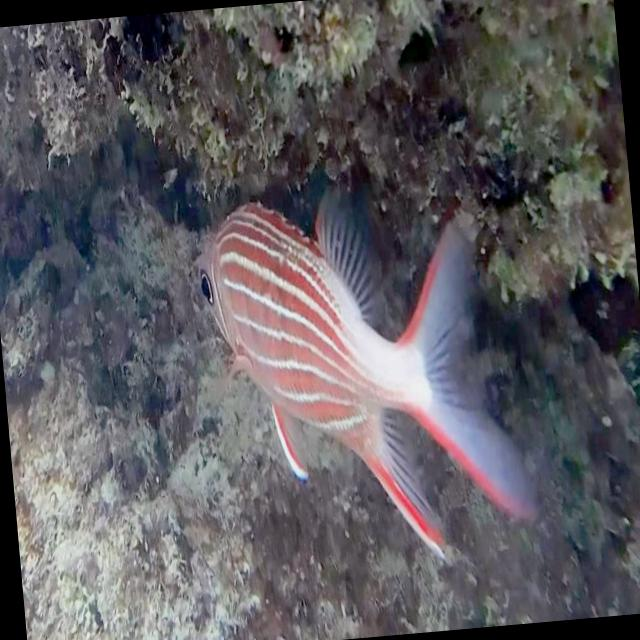Asker Baligi: (187, 163, 544, 584)
